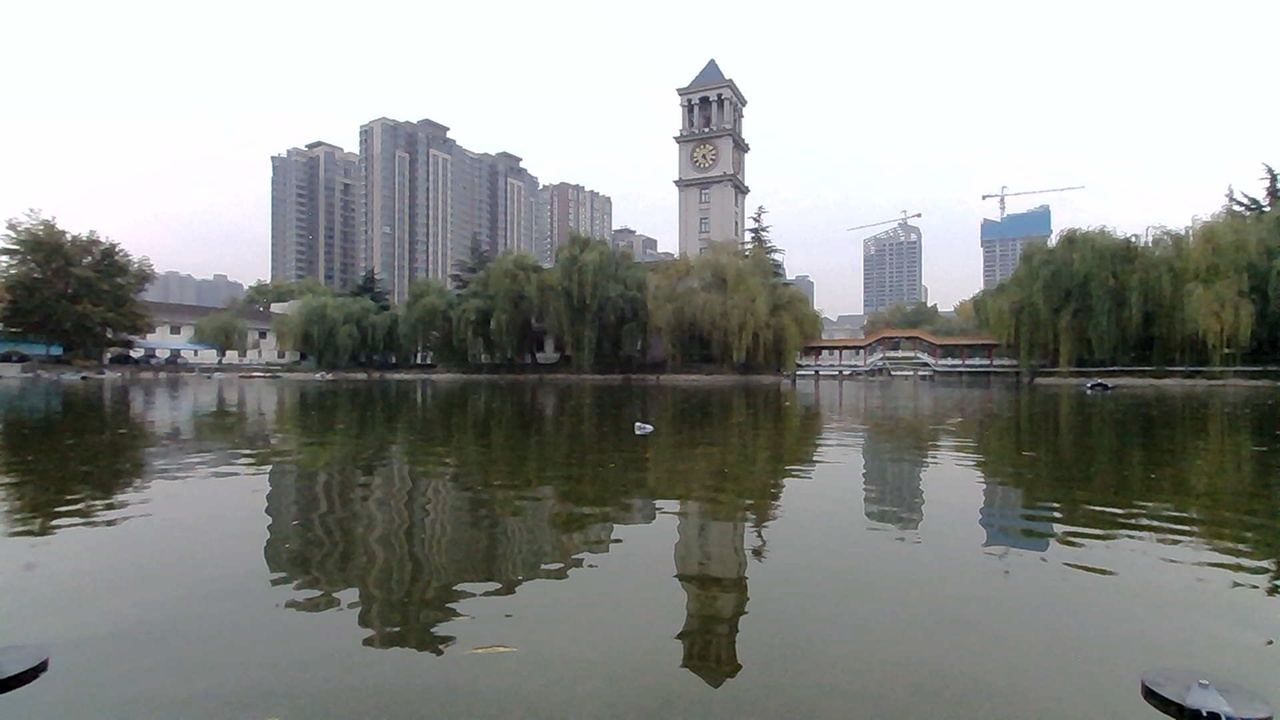bottle: (631, 410, 683, 448)
